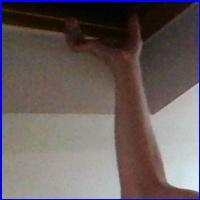space: (62, 12, 149, 65)
